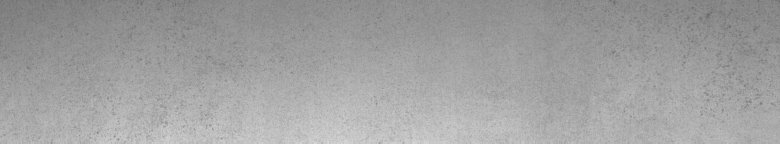ib: (700, 12, 776, 116)
